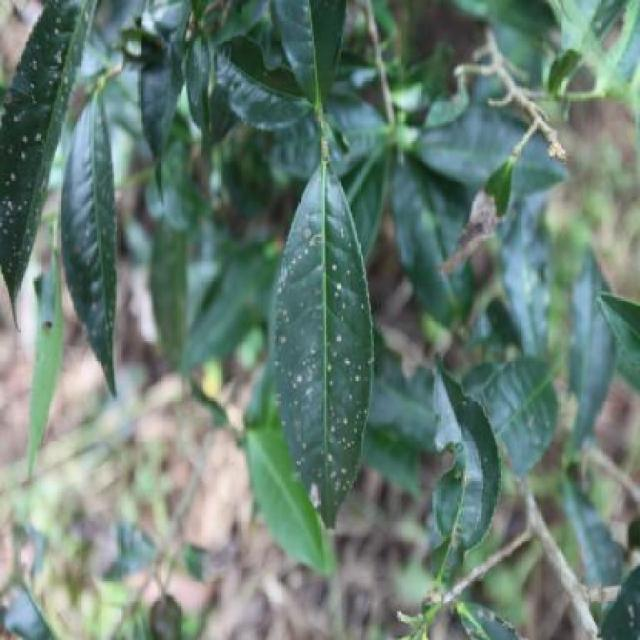Leaf rust of tea: (275, 150, 368, 516), (426, 370, 503, 542)
